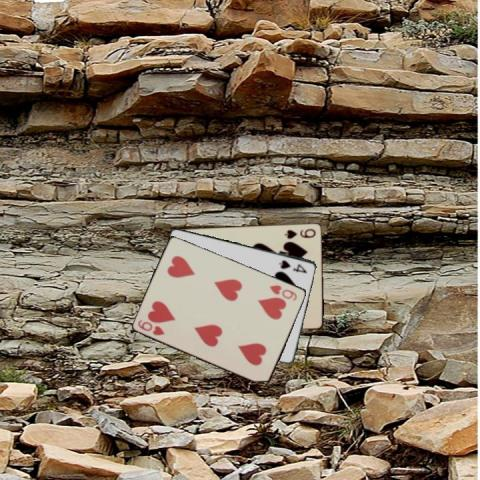4s: (276, 256, 309, 274)
6h: (266, 282, 298, 302), (134, 317, 166, 337)
9s: (282, 226, 317, 240)
